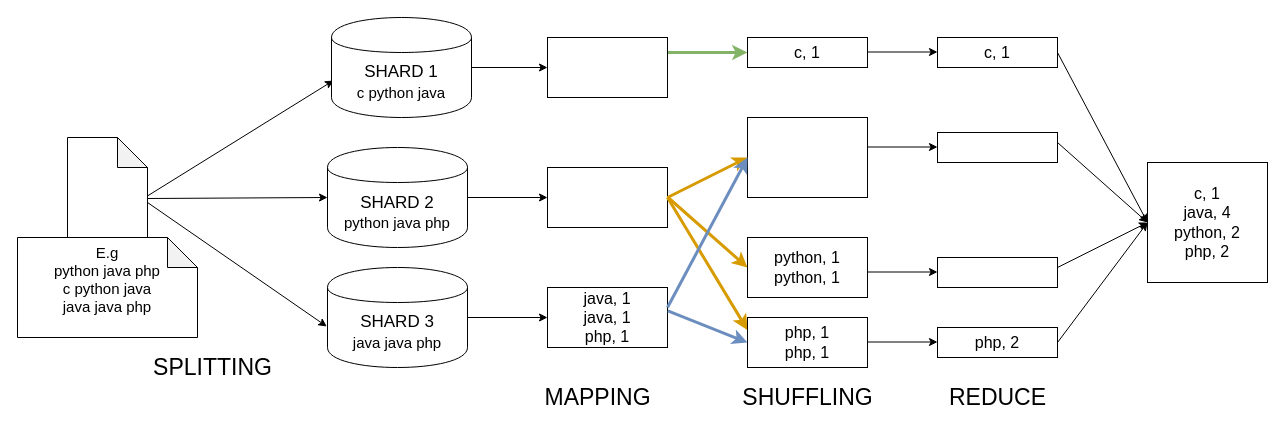
The diagram is 1285 pixels wide and 429 high, and some of its shapes have lost their labels. The shapes that lost their labels are listed below. From the top down, each one's centre as x and y in pixels, then its label:
At point (607, 67): "c, 1 python, 1 java, 1".
At point (807, 157): "java, 1 java, 1 java, 1 java, 1".
At point (997, 147): "java, 4".
At point (107, 187): "TWITTER MESSAGE".
At point (607, 197): "python, 1 java, 1 php, 1".
At point (997, 272): "python, 2".
